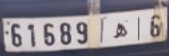1: (27, 21, 37, 48)
6: (8, 23, 24, 48), (41, 22, 56, 48), (149, 11, 162, 39)
8: (60, 20, 72, 48)
9: (75, 19, 88, 45)
h: (111, 21, 131, 44)
